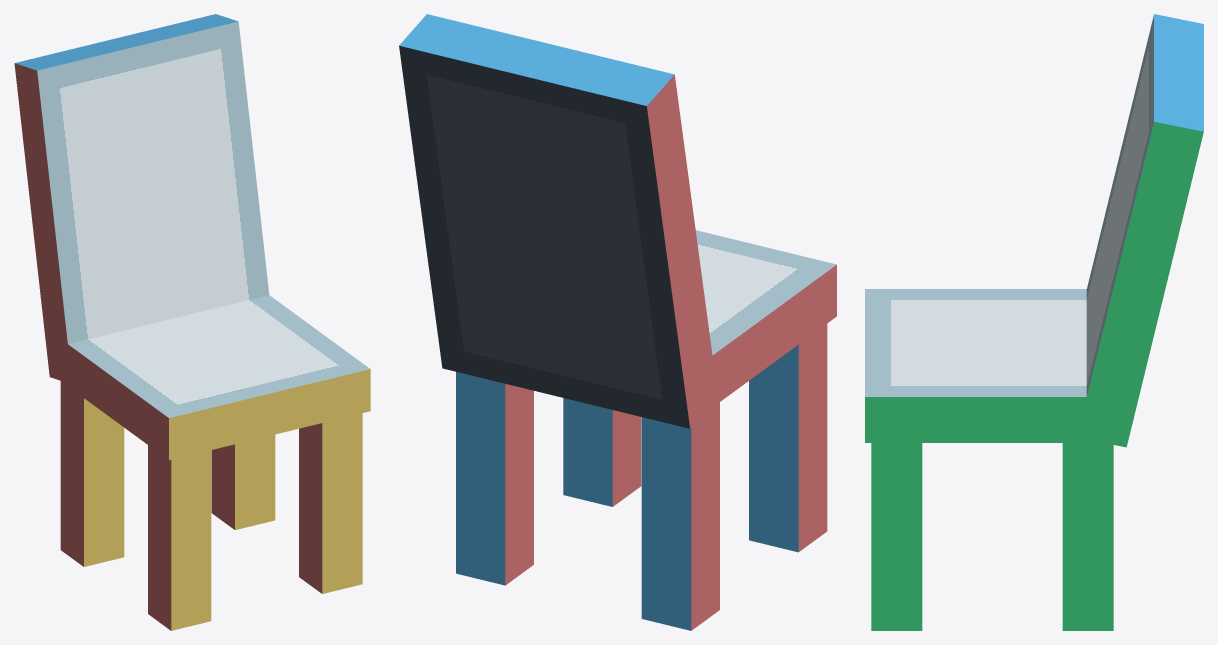
The model's file is chaur untextured.fbx.
3 views of the same model, side by side, from view 1: azimuth 30°, elevation 25°; view 2: azimuth 150°, elevation 25°; view 3: azimuth 270°, elevation 25° (orthographic). The views are drawn at different scales.
Parts seen in each view (by area): view 1: cube_5, cube_4, cube_3, cube_2, cube, cube_1; view 2: cube_5, cube, cube_4, cube_1, cube_3, cube_2; view 3: cube_4, cube_5, cube_2, cube_1.
Part boxes in pixels (bbox=[...]): cube_5: bbox=[14, 14, 269, 383]; cube_4: bbox=[57, 295, 370, 460]; cube_3: bbox=[148, 445, 211, 630]; cube_2: bbox=[299, 413, 362, 593]; cube: bbox=[60, 381, 124, 566]; cube_1: bbox=[211, 434, 275, 529]; cube_5: bbox=[399, 14, 717, 428]; cube: bbox=[641, 402, 719, 630]; cube_4: bbox=[694, 230, 836, 413]; cube_1: bbox=[456, 372, 533, 585]; cube_3: bbox=[749, 324, 827, 552]; cube_2: bbox=[563, 398, 641, 506]; cube_4: bbox=[865, 289, 1119, 442]; cube_5: bbox=[1077, 14, 1203, 447]; cube_2: bbox=[871, 443, 922, 630]; cube_1: bbox=[1062, 443, 1113, 630].
Size of the model in its own units: 62.5 by 138 by 83.06.
Materials: 1 (1 with a texture image).
